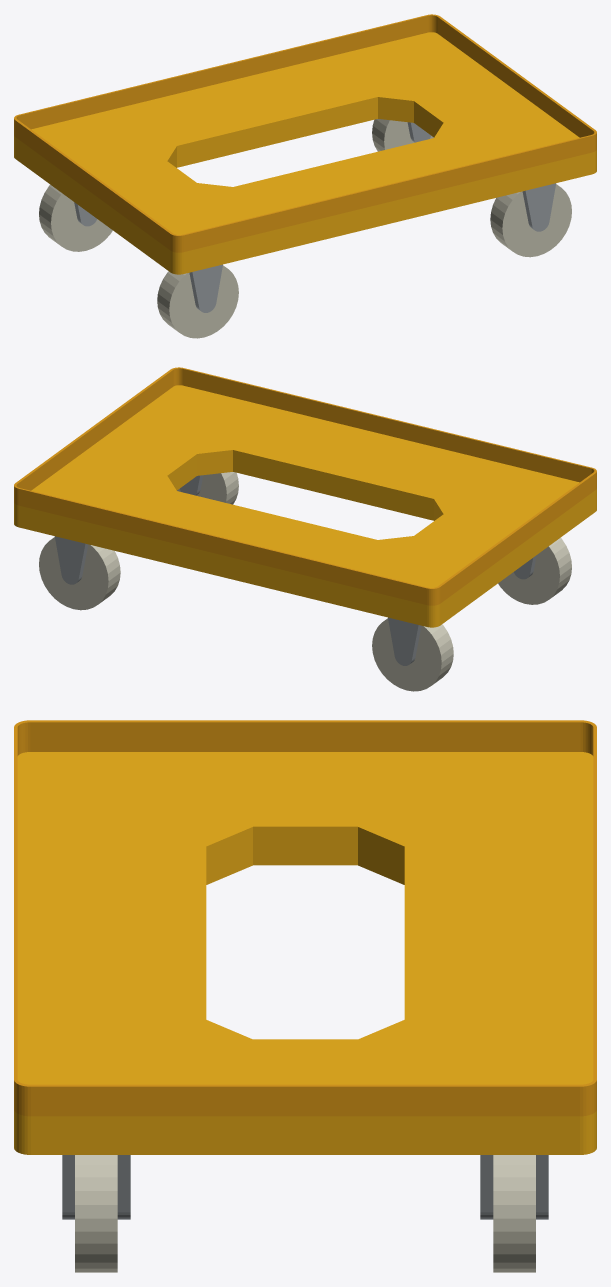
The model's file is working.glb.
3 views of the same model, one above another, from view 1: azimuth 30°, elevation 25°; view 2: azimuth 150°, elevation 25°; view 3: azimuth 270°, elevation 25° (orthographic). The views are drawn at different scales.
Parts seen in each view (by area): view 1: deck, trim, wheels, mounts; view 2: deck, trim, wheels, mounts; view 3: deck, trim, wheels, mounts.
Boxes of the visible parts, bbox=[...] form: deck: bbox=[14, 32, 596, 274]; trim: bbox=[14, 14, 596, 252]; wheels: bbox=[39, 119, 571, 338]; mounts: bbox=[74, 122, 555, 312]; deck: bbox=[14, 385, 596, 627]; trim: bbox=[14, 367, 596, 605]; wheels: bbox=[39, 472, 571, 691]; mounts: bbox=[55, 475, 536, 665]; deck: bbox=[14, 752, 596, 1154]; trim: bbox=[14, 720, 596, 1116]; wheels: bbox=[75, 1155, 535, 1272]; mounts: bbox=[62, 1155, 548, 1219].
Size of the model in its own units: 0.61 by 0.17 by 0.41.
